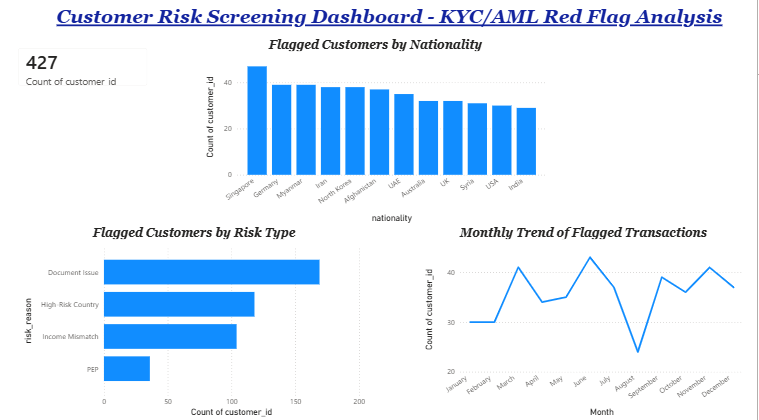

Layout of this report page (visuals, bound fields, positions):
{"tool":"powerbi","page":{"name":"Page 1","canvas":[1280,720],"ordinal":0},"visuals":[{"type":"barChart","title":"Flagged Customers by Risk Type","fields":{"Category":["kyc_project customer_risk_flags.risk_reason"],"Y":["CountNonNull(kyc_project customer_risk_flags.customer_id)"]},"box":[42,394.8,584.6,325.9],"z":0},{"type":"columnChart","title":"Flagged Customers by Nationality","fields":{"Category":["kyc_project customer_risk_flags.nationality"],"Y":["CountNonNull(kyc_project customer_risk_flags.customer_id)"]},"box":[347.7,79,582.9,315.8],"z":1},{"type":"lineChart","title":"Monthly Trend of Flagged Transactions","fields":{"Category":["kyc_project customer_risk_flags.transaction_date.Variation.Date Hierarchy.Month"],"Y":["CountNonNull(kyc_project customer_risk_flags.customer_id)"]},"box":[715.6,394.8,545.9,325.9],"z":2},{"type":"textbox","box":[89,20.2,1147.3,58.8],"z":3},{"type":"cardVisual","fields":{"Data":["CountNonNull(kyc_project customer_risk_flags.customer_id)"]},"box":[21.8,79,252,97.4],"z":4}]}

Visuals, with their boxes in screenshot pixels (x1, y1, x2, y2), scaled from the page's 1280x720 canvas onto the 759x420 screenshot:
"Flagged Customers by Risk Type" barChart: [left=25, top=230, right=372, bottom=419]
"Flagged Customers by Nationality" columnChart: [left=206, top=46, right=552, bottom=230]
"Monthly Trend of Flagged Transactions" lineChart: [left=424, top=230, right=748, bottom=419]
textbox: [left=53, top=12, right=733, bottom=46]
cardVisual - CountNonNull(kyc_project customer_risk_flags.customer_id): [left=13, top=46, right=162, bottom=103]
